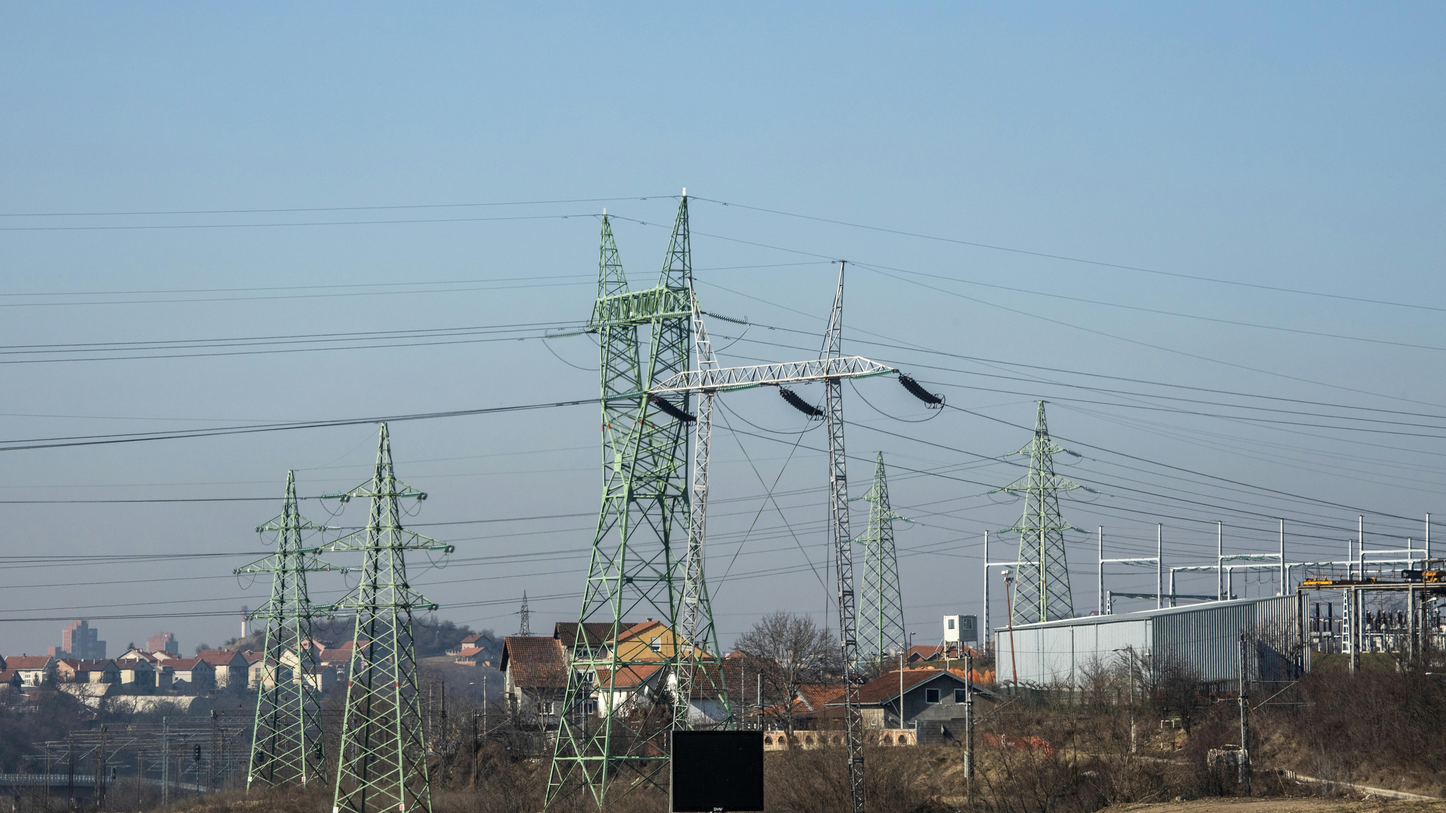insulator: (774, 383, 830, 422), (893, 369, 947, 409), (646, 394, 699, 423)
